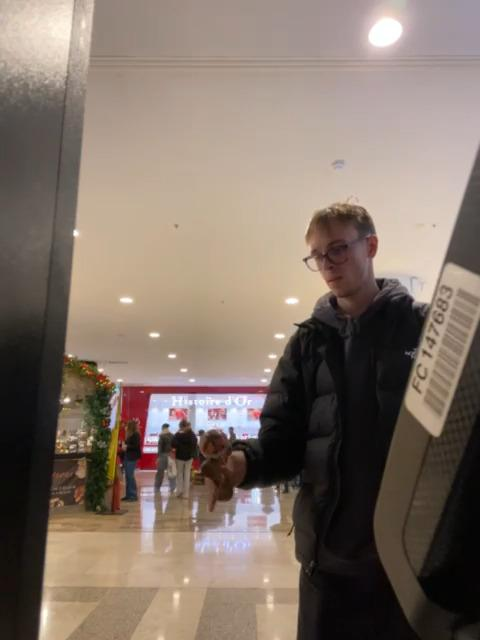kendama_ball: (199, 428, 229, 458)
